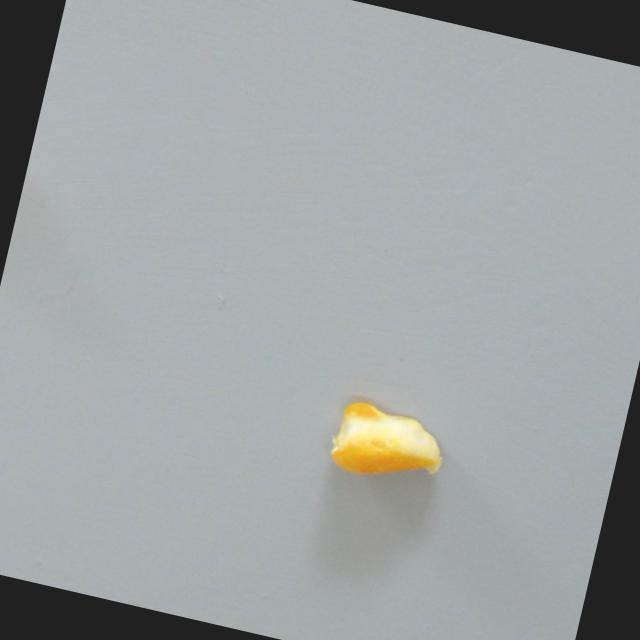pelicula: (318, 394, 451, 494)
